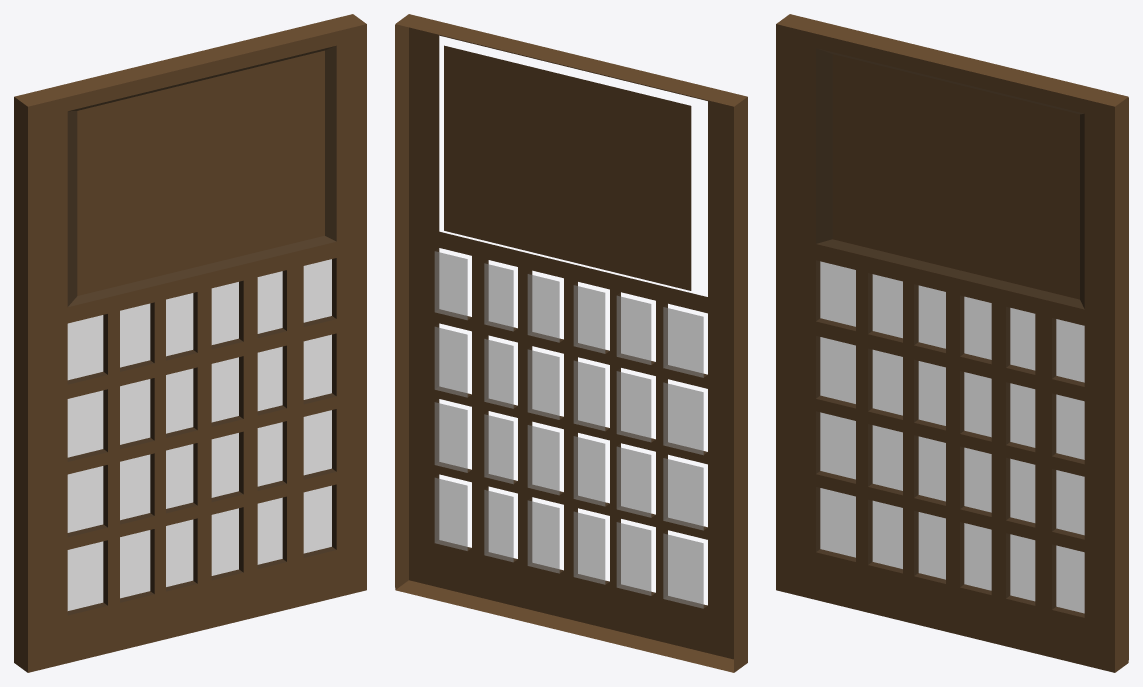
File: right door.fbx
3 views of the same model, side by side, from view 1: azimuth 30°, elevation 25°; view 2: azimuth 150°, elevation 25°; view 3: azimuth 330°, elevation 25° (orthographic).
Parts seen in each view (by area): view 1: polySurface6; view 2: polySurface6; view 3: polySurface6.
Boxes of the visible parts, x1,y1,x2,y2 form: polySurface6: (14,14,366,672); polySurface6: (395,14,747,672); polySurface6: (776,14,1128,672).
Size of the model in its own units: 10.95 by 17.48 by 0.7739.
